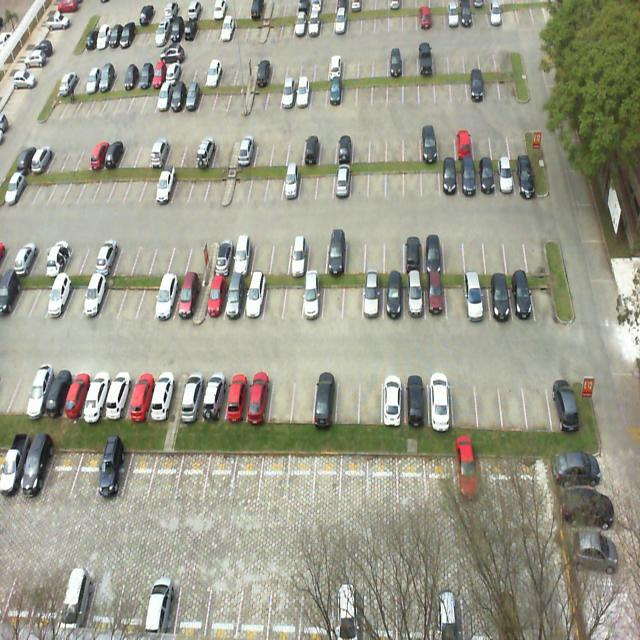space-empty: (123, 442, 158, 502), (71, 446, 106, 501), (148, 444, 182, 500), (43, 445, 78, 499), (231, 451, 264, 504), (499, 373, 528, 432), (204, 448, 238, 498), (175, 445, 208, 496), (312, 451, 342, 507), (259, 448, 290, 500), (523, 371, 550, 428), (476, 372, 502, 429), (117, 271, 146, 322), (288, 449, 314, 504), (452, 374, 479, 426), (136, 267, 162, 320), (268, 373, 294, 424), (262, 270, 286, 324), (530, 270, 557, 318), (359, 371, 382, 426), (101, 270, 125, 320), (335, 373, 359, 423), (290, 372, 313, 424), (483, 227, 507, 275), (443, 226, 466, 273), (130, 236, 156, 276), (113, 238, 140, 276), (525, 229, 548, 272), (444, 277, 467, 320), (148, 237, 172, 278), (188, 164, 211, 206), (282, 276, 302, 324), (167, 238, 192, 276), (505, 227, 526, 272), (322, 277, 343, 322), (188, 239, 212, 278), (139, 165, 162, 205), (172, 165, 193, 208), (382, 231, 404, 272), (204, 166, 226, 206), (464, 228, 484, 272), (231, 164, 252, 205), (307, 234, 328, 273), (345, 231, 364, 274), (268, 236, 290, 272), (251, 235, 272, 272), (345, 275, 362, 320), (364, 235, 383, 273), (299, 166, 317, 205), (267, 166, 284, 207), (250, 166, 268, 204), (368, 162, 386, 200), (422, 163, 440, 198), (388, 162, 404, 200), (403, 163, 420, 198), (316, 166, 332, 200), (351, 164, 367, 198)
space-occupied: (94, 445, 132, 502), (545, 370, 576, 426), (223, 370, 254, 424), (21, 446, 55, 494), (64, 367, 93, 420), (222, 272, 249, 326), (83, 371, 112, 421), (106, 371, 134, 422), (428, 375, 454, 428), (127, 370, 154, 420), (312, 372, 336, 428), (154, 274, 180, 324), (203, 370, 229, 420), (246, 372, 272, 422), (148, 374, 175, 422), (174, 272, 198, 324), (382, 371, 405, 424), (241, 275, 265, 325), (405, 374, 428, 426), (486, 273, 511, 320), (181, 373, 206, 418), (205, 273, 225, 327), (509, 276, 532, 320), (303, 276, 324, 324), (155, 165, 178, 208), (467, 275, 488, 322), (363, 276, 384, 322), (425, 229, 445, 276), (511, 156, 534, 196), (287, 234, 310, 274), (404, 226, 424, 272), (404, 274, 424, 320), (426, 276, 446, 322), (229, 238, 252, 277), (213, 239, 236, 276), (384, 276, 402, 322), (324, 235, 344, 273), (458, 162, 478, 198), (478, 158, 496, 198), (494, 160, 514, 195), (283, 164, 300, 205), (333, 165, 350, 202), (440, 162, 458, 195)
